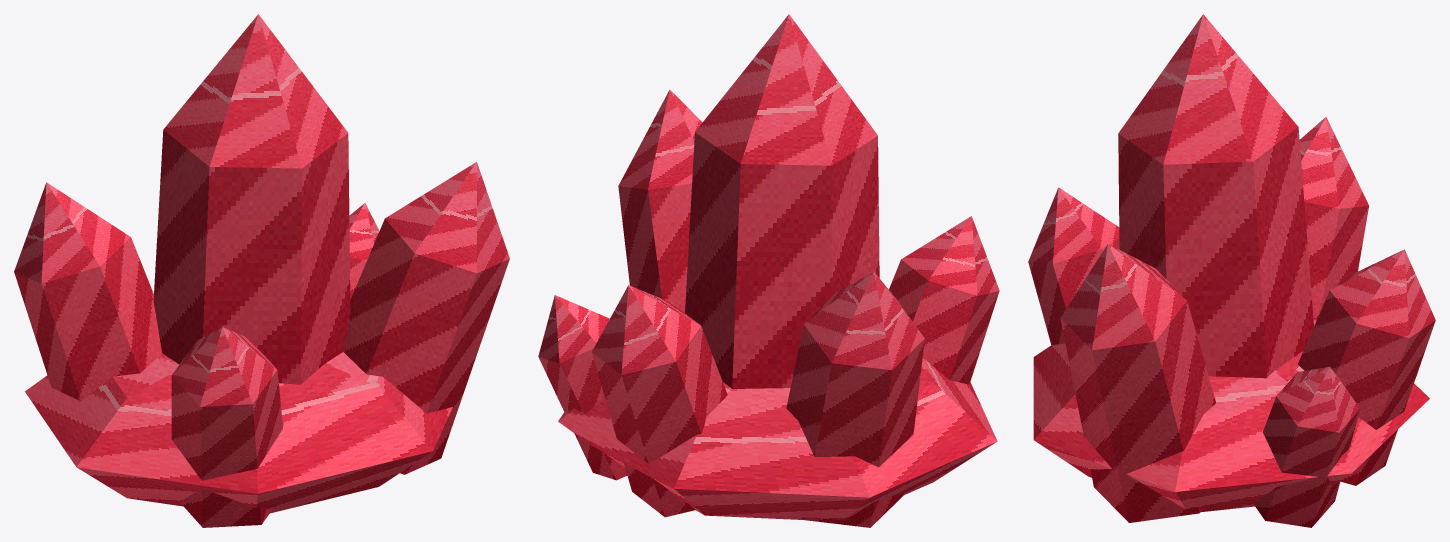
Rendered from rubi.glb.
3 views of the same model, side by side, from view 1: azimuth 30°, elevation 25°; view 2: azimuth 150°, elevation 25°; view 3: azimuth 270°, elevation 25° (orthographic). The views are drawn at different scales.
Parts seen in each view (by area): view 1: rubi; view 2: rubi; view 3: rubi.
Part boxes in pixels (left/top/right/bottom): rubi: left=14, top=14, right=509, bottom=527; rubi: left=538, top=14, right=999, bottom=527; rubi: left=1028, top=14, right=1435, bottom=527.
Bounding box in the file's own units: 0.8816 × 0.9964 × 0.8114.
Materials: 1 (1 with a texture image).
